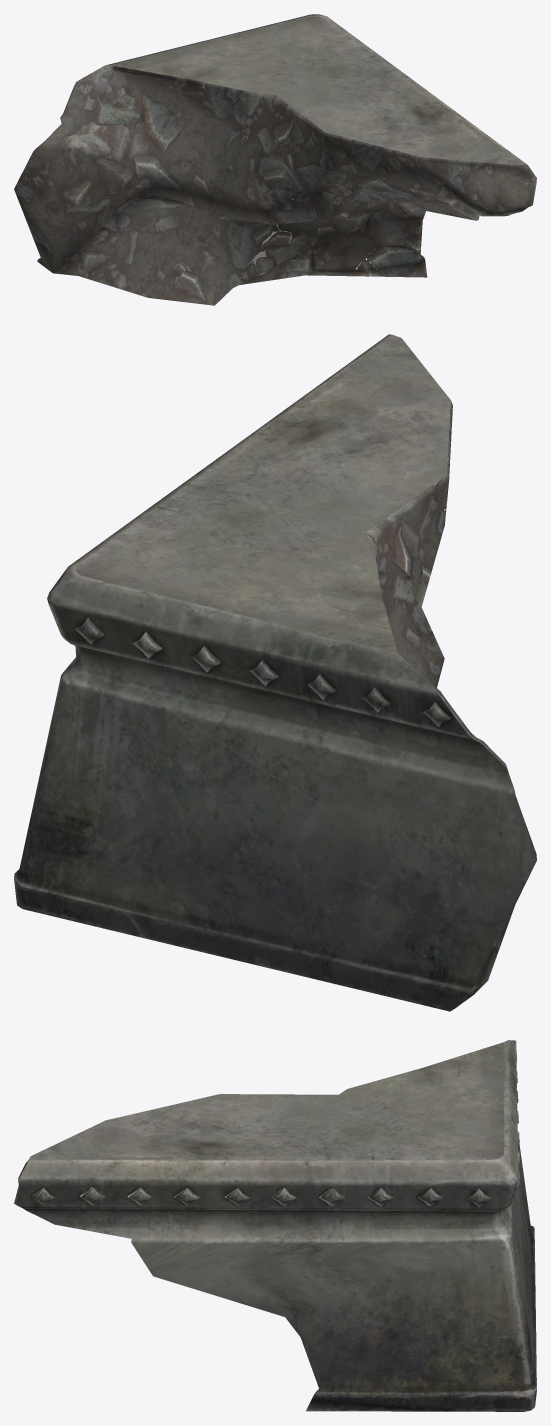
3 views of the same model, one above another, from view 1: azimuth 30°, elevation 25°; view 2: azimuth 150°, elevation 25°; view 3: azimuth 270°, elevation 25° (orthographic). The views are drawn at different scales.
Visible parts, largest first — view 1: SM_SaradominTemple_Statue_01v3_LOD0; view 2: SM_SaradominTemple_Statue_01v3_LOD0; view 3: SM_SaradominTemple_Statue_01v3_LOD0.
Part boxes in pixels (left/top/right/bottom): SM_SaradominTemple_Statue_01v3_LOD0: left=14, top=14, right=536, bottom=305; SM_SaradominTemple_Statue_01v3_LOD0: left=14, top=334, right=536, bottom=1011; SM_SaradominTemple_Statue_01v3_LOD0: left=14, top=1040, right=536, bottom=1411.
Bounding box in the file's own units: 3.51 × 2.13 × 4.22.
Materials: 2 (2 with a texture image).
